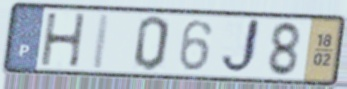0: (131, 14, 172, 74)
6: (178, 17, 214, 73)
8: (266, 20, 304, 78)
H: (40, 12, 89, 69)
I: (88, 11, 114, 72)
J: (218, 17, 264, 78)
